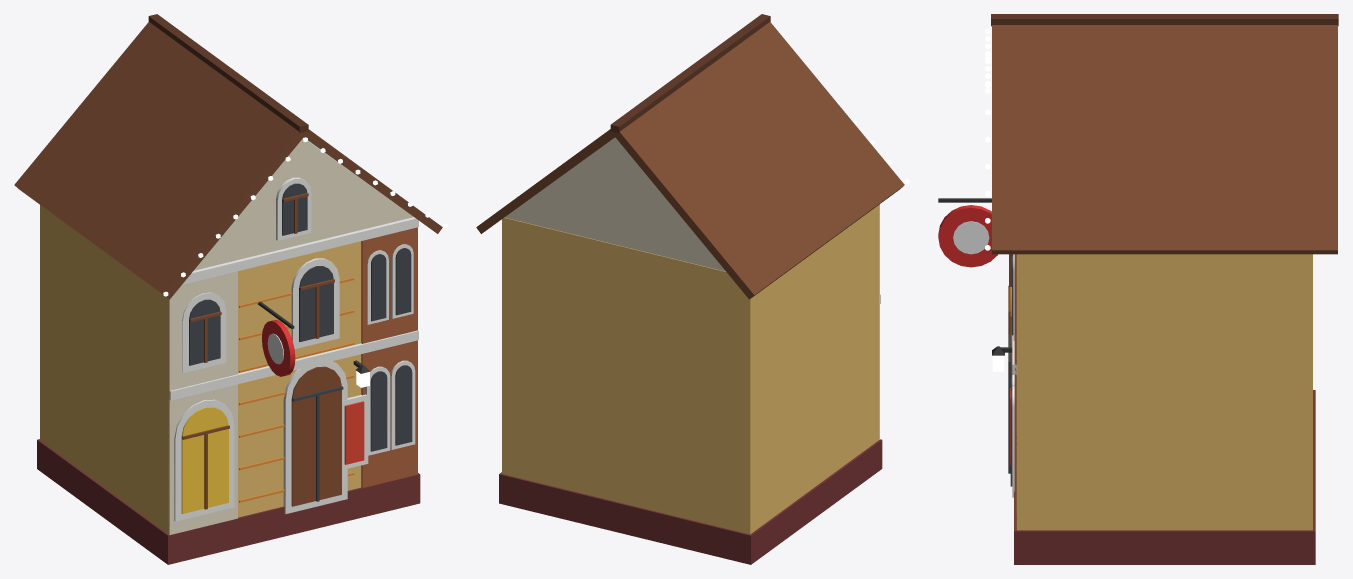
The picture shows the model from 3 angles, left to right: view 1: azimuth 30°, elevation 25°; view 2: azimuth 150°, elevation 25°; view 3: azimuth 270°, elevation 25°; orthographic projection. The views are drawn at different scales.
Visible parts, largest first — view 1: base; view 2: base; view 3: base.
Part boxes in pixels (x1,y1,x2,y2): base: (14,14,447,564); base: (476,14,909,564); base: (938,14,1338,564).
Size of the model in its own units: 4.57 by 6.4 by 4.86.
